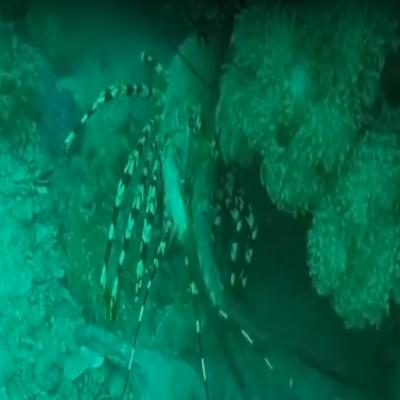lobster: (152, 36, 231, 314)
